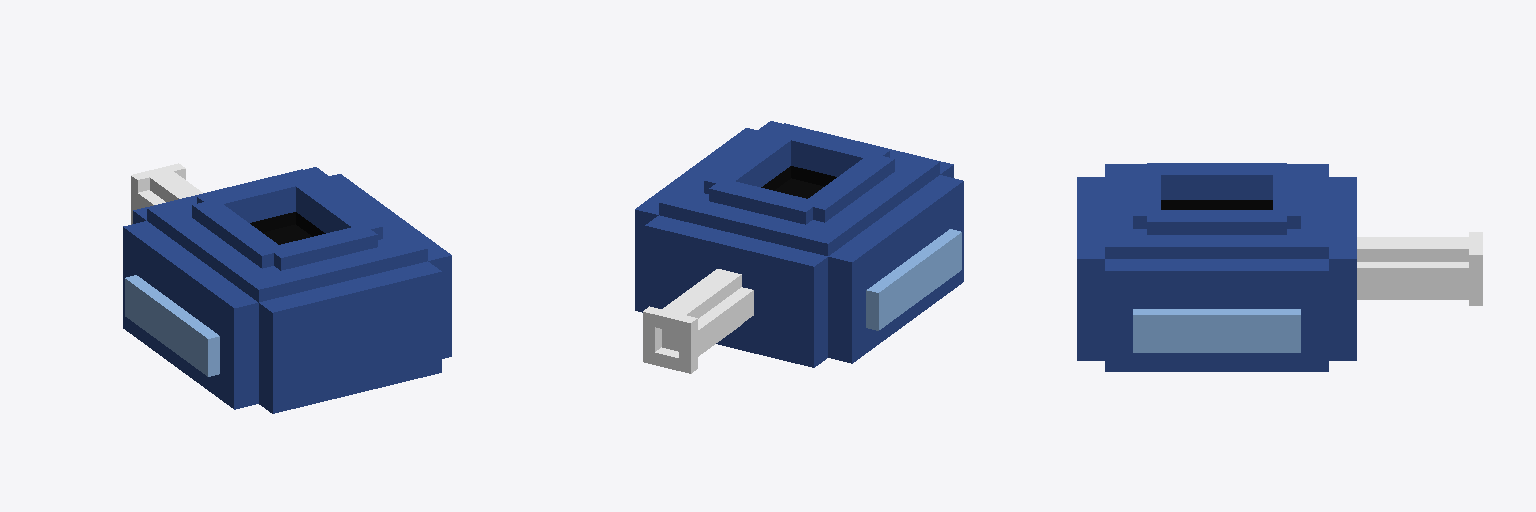
The picture shows the model from 3 angles: view 1: azimuth 30°, elevation 25°; view 2: azimuth 150°, elevation 25°; view 3: azimuth 270°, elevation 25°; orthographic projection.
Parts seen in each view (by area): view 1: object 1; view 2: object 1; view 3: object 1.
Part boxes in pixels (bbox=[...]): object 1: bbox=[123, 163, 451, 413]; object 1: bbox=[635, 121, 963, 373]; object 1: bbox=[1077, 163, 1482, 371].
Size of the model in its own units: 2 by 1 by 2.9.
Materials: 1 (1 with a texture image).